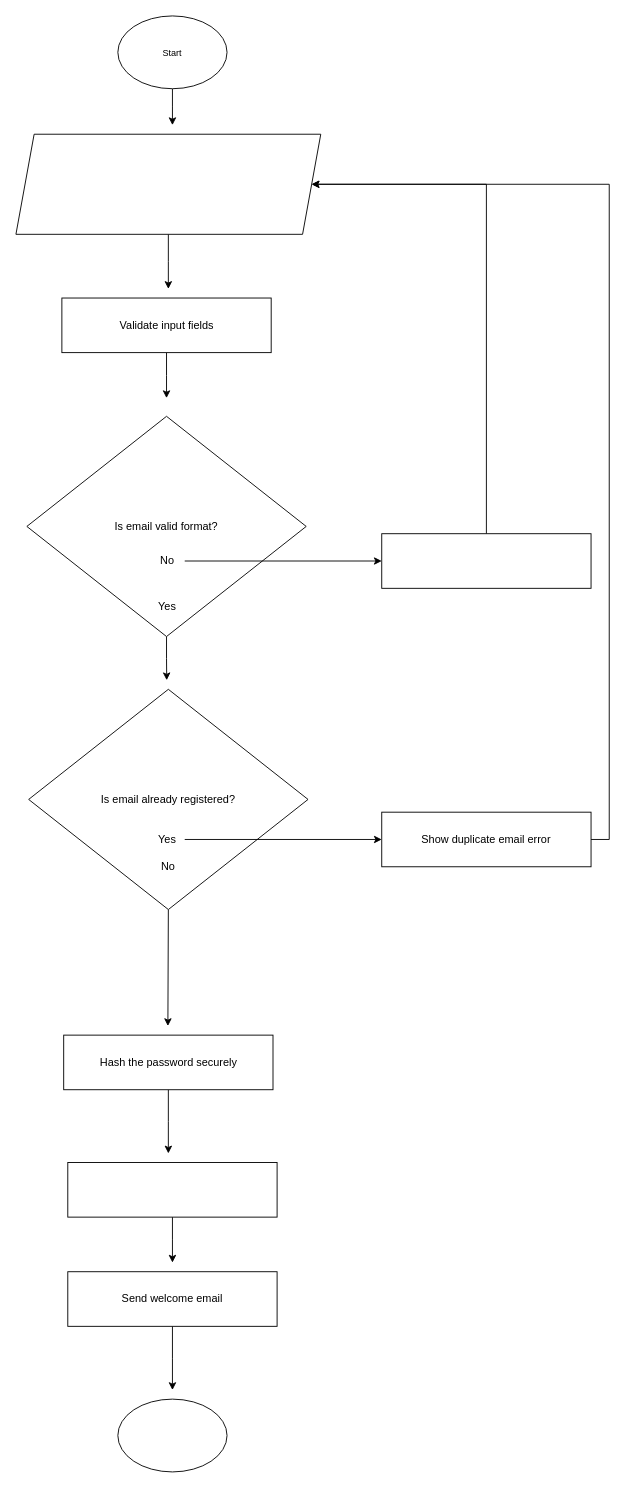
Image size: 632x1488. Some labels were removed from this diagram. Here are the shapes that lost their labels. From the top down, the centre of each, then its label:
At [168,183]: "User submits registration form (email, password, name)".
At [486,560]: "Show error message".
At [172,1189]: "Store user in database".
At [172,1435]: "End (User registered)".
